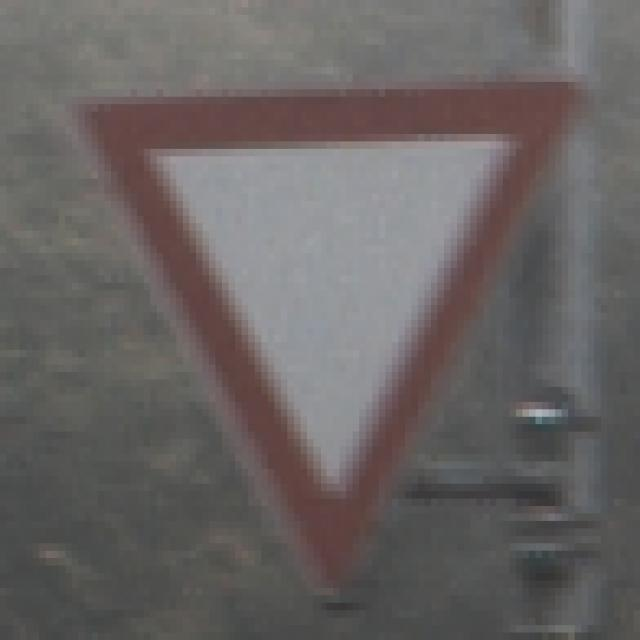Give Way: (60, 60, 589, 589)
